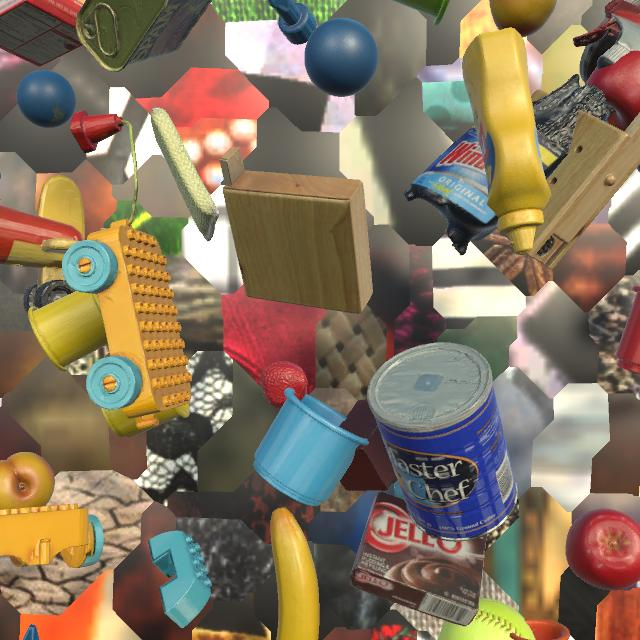ycb_002_master_chef_can: (367, 342, 518, 542)
ycb_006_mustard_bottle: (462, 28, 551, 255)
ycb_008_pudding_box: (350, 491, 487, 626)
ycb_009_gelatin_box: (0, 0, 83, 67)
ycb_010_potted_meat_can: (75, 0, 212, 72)
ycb_011_banana: (270, 507, 319, 640)
ycb_012_strawberry: (260, 361, 308, 409)
ycb_013_apple: (565, 508, 640, 590), (585, 50, 640, 131)
ycb_015_peach: (0, 452, 55, 510), (489, 0, 557, 37)
